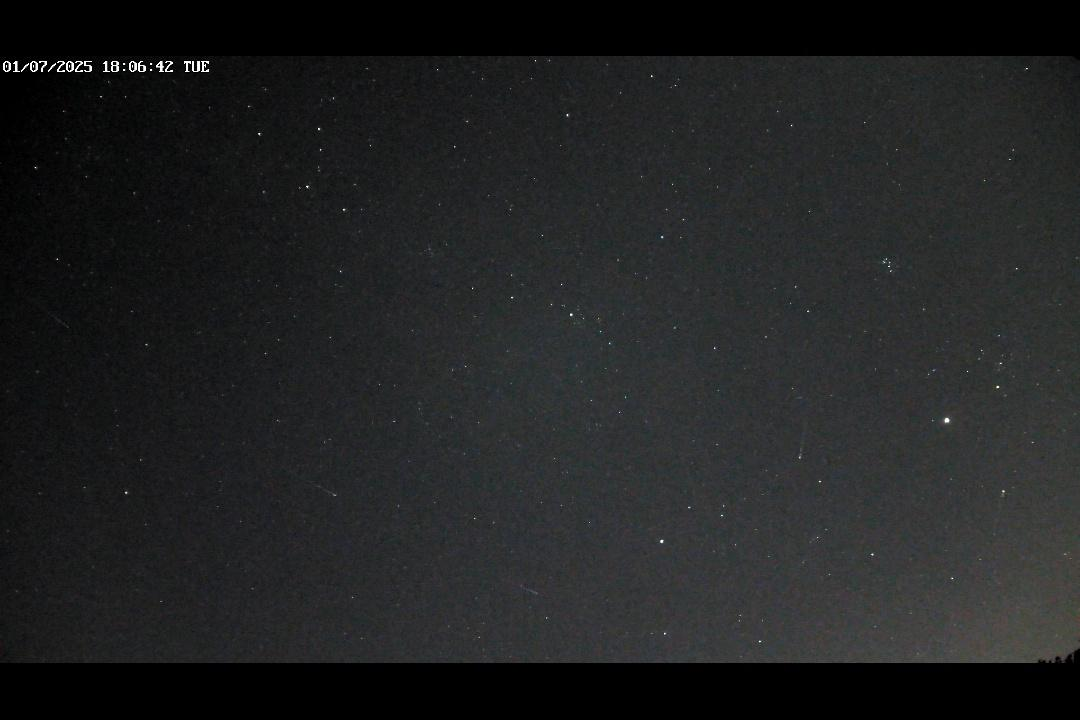Plane: (26, 286, 77, 337), (494, 572, 551, 605), (296, 476, 344, 498), (996, 484, 1010, 538), (793, 418, 808, 464)
